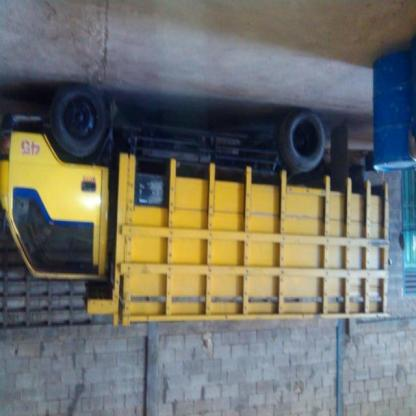truck: (2, 89, 394, 323)
